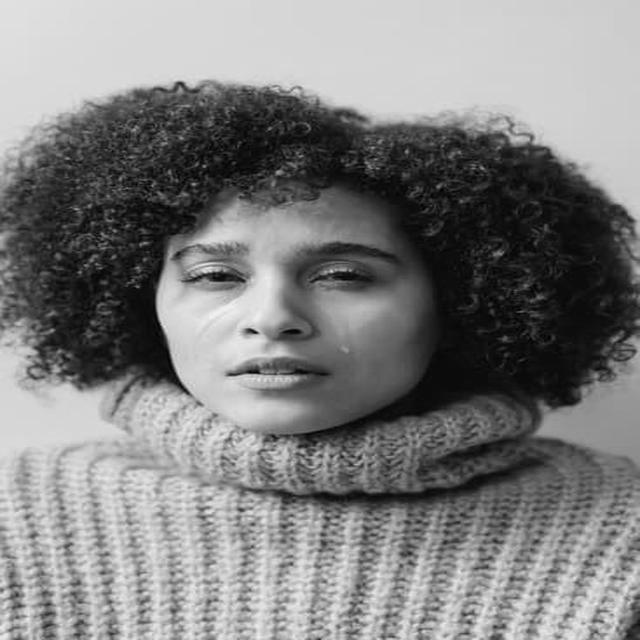Sadness: (155, 186, 431, 434)
